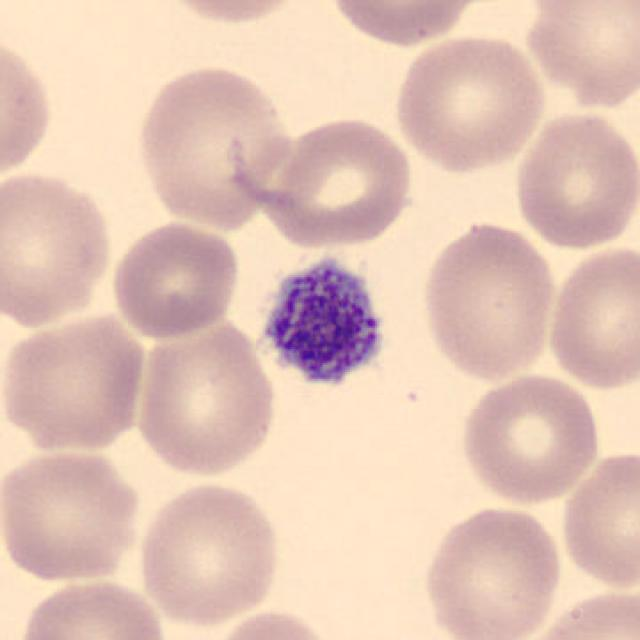Platelets: (253, 248, 397, 396)
RBC: (131, 60, 297, 233), (131, 312, 281, 481), (416, 217, 562, 384), (390, 30, 550, 175), (133, 478, 284, 629), (0, 308, 151, 455), (263, 113, 418, 252), (2, 442, 146, 586), (455, 370, 605, 508), (418, 501, 565, 638), (0, 168, 116, 332), (510, 106, 638, 252), (105, 219, 243, 340), (544, 240, 638, 393), (519, 0, 638, 113), (556, 446, 638, 592), (12, 573, 170, 640), (0, 25, 57, 188), (322, 0, 489, 49), (521, 583, 640, 640), (200, 606, 339, 640), (149, 0, 315, 28)
